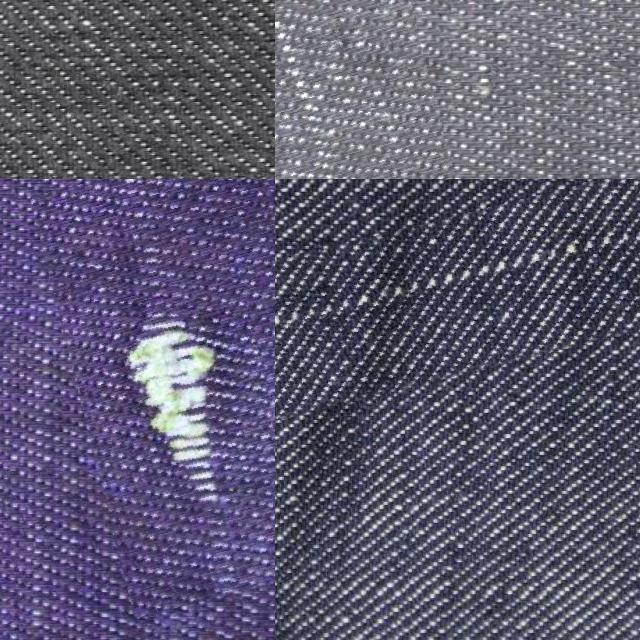stains: (55, 179, 275, 605), (275, 179, 640, 395), (275, 0, 514, 179)
